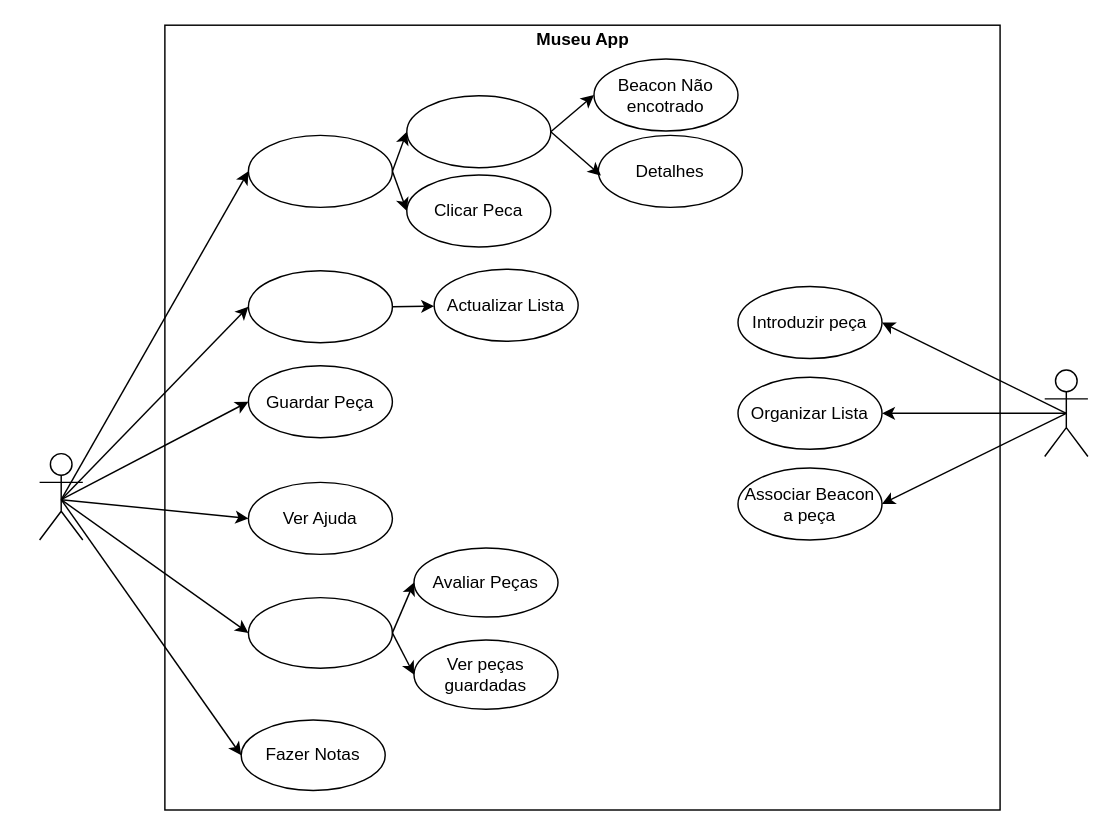
Image size: 1116x835. Some labels were removed from this diagram. The shapes that lost their labels are listed below. From the top down, each one's box as (x1, y1, x2, y2) in pixels, then its label:
(405, 94, 551, 168): Scan Beacon
(247, 134, 392, 207): Ver Lista
(247, 269, 392, 343): Aplicar Filtros
(1043, 369, 1088, 456): Museu
(38, 452, 83, 540): Utilizador
(247, 596, 392, 668): Fazer Login
